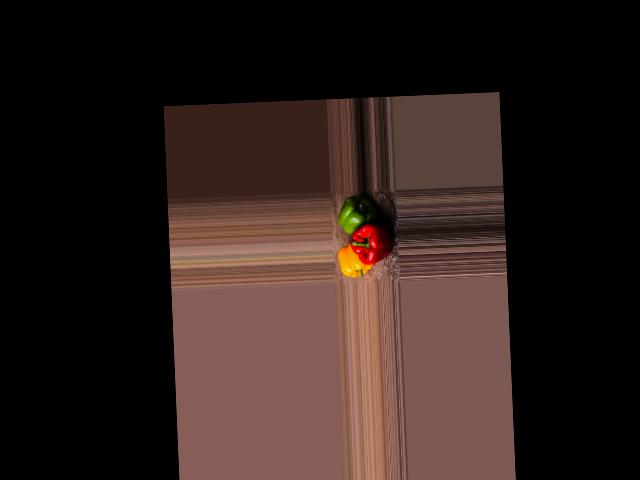bell_pepper: (336, 244, 374, 278)
